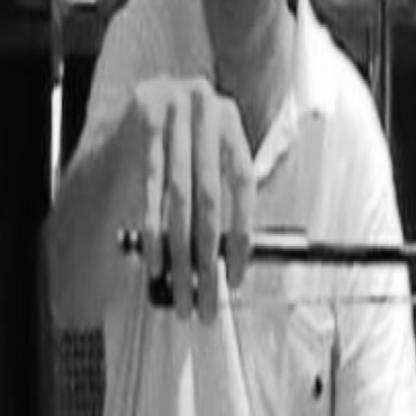bad: (136, 58, 264, 343)
